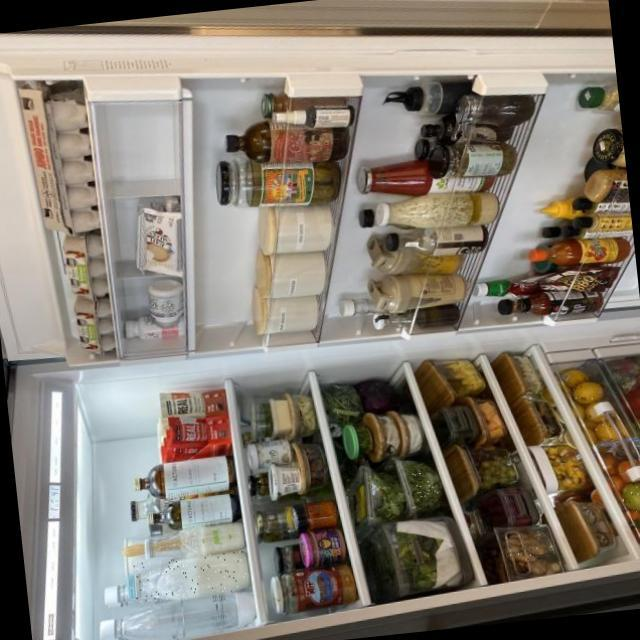Limón: (573, 379, 604, 403), (560, 367, 588, 387), (593, 420, 617, 441), (584, 400, 607, 421)
Manzana: (620, 480, 640, 512)
ginger: (505, 542, 535, 564), (527, 541, 548, 555), (547, 560, 562, 573)
milk: (124, 549, 249, 602)
parsley: (412, 467, 439, 505)
